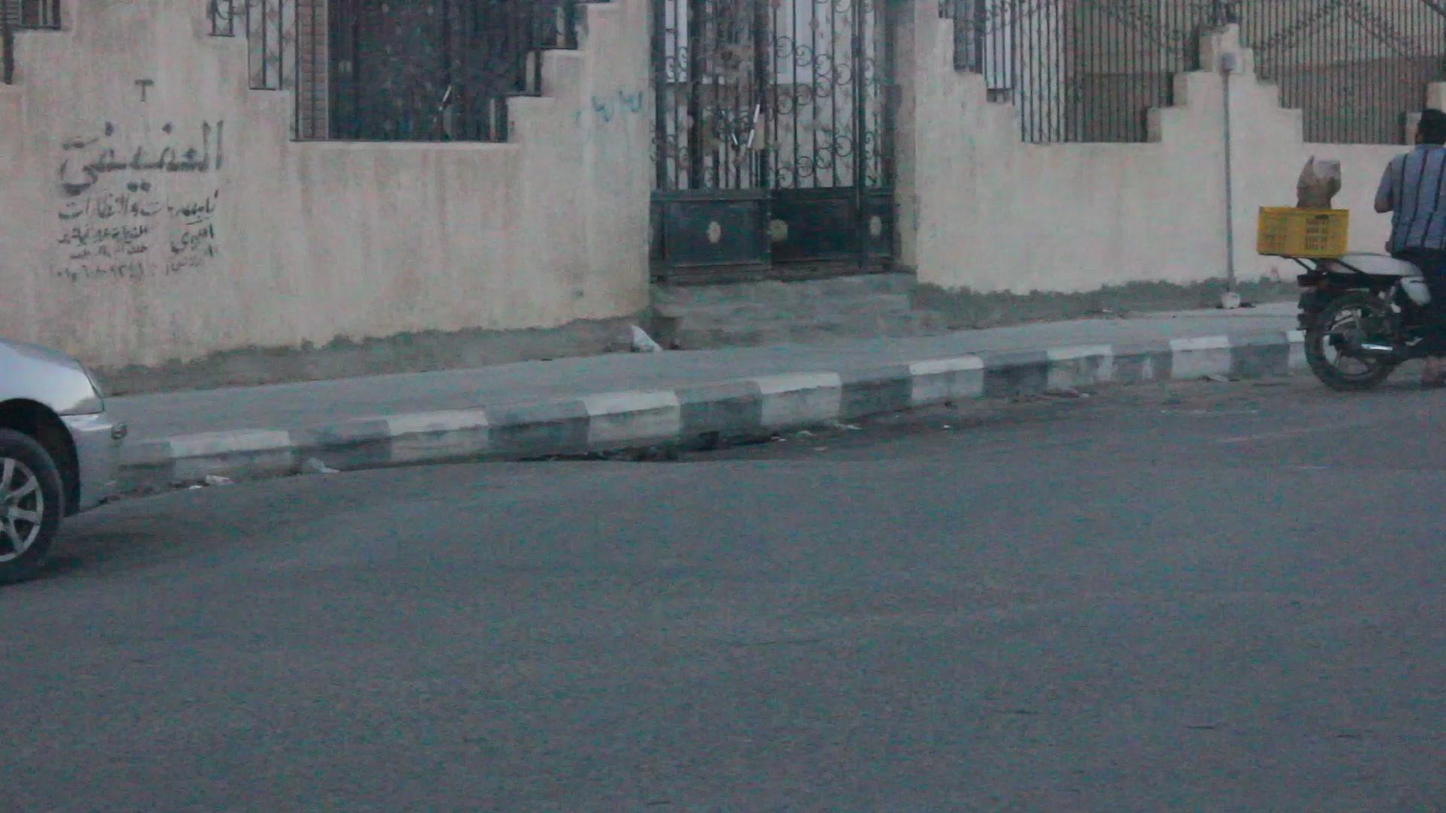Bump: (69, 459, 1445, 629)
